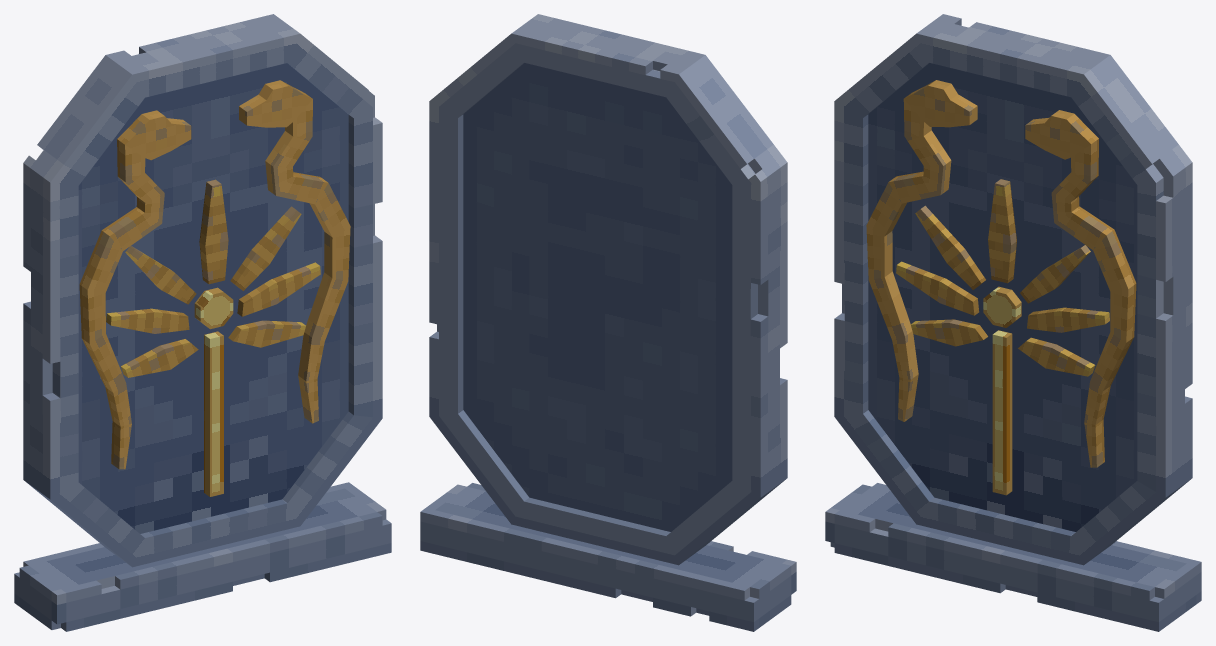
3 renders of one model, left to right at view 1: azimuth 30°, elevation 25°; view 2: azimuth 150°, elevation 25°; view 3: azimuth 330°, elevation 25°, orthographic.
Visible parts, largest first — view 1: Seshat_backplate, snake_left, snake_right, frond_center, frond_right, frond_left; view 2: Seshat_backplate; view 3: Seshat_backplate, snake_right, snake_left, frond_center, frond_left, frond_right.
Boxes of the visible parts, bbox=[...] form: Seshat_backplate: bbox=[14, 14, 391, 631]; snake_left: bbox=[79, 110, 191, 469]; snake_right: bbox=[239, 80, 350, 423]; frond_center: bbox=[194, 179, 233, 496]; frond_right: bbox=[228, 206, 320, 347]; frond_left: bbox=[106, 246, 198, 377]; Seshat_backplate: bbox=[420, 14, 796, 631]; Seshat_backplate: bbox=[825, 14, 1201, 631]; snake_right: bbox=[1025, 110, 1136, 467]; snake_left: bbox=[866, 80, 977, 421]; frond_center: bbox=[983, 179, 1021, 495]; frond_left: bbox=[896, 205, 987, 346]; frond_right: bbox=[1018, 245, 1109, 376].
Size of the model in its own units: 1.12 by 1.71 by 0.25.
Materials: 1 (1 with a texture image).
